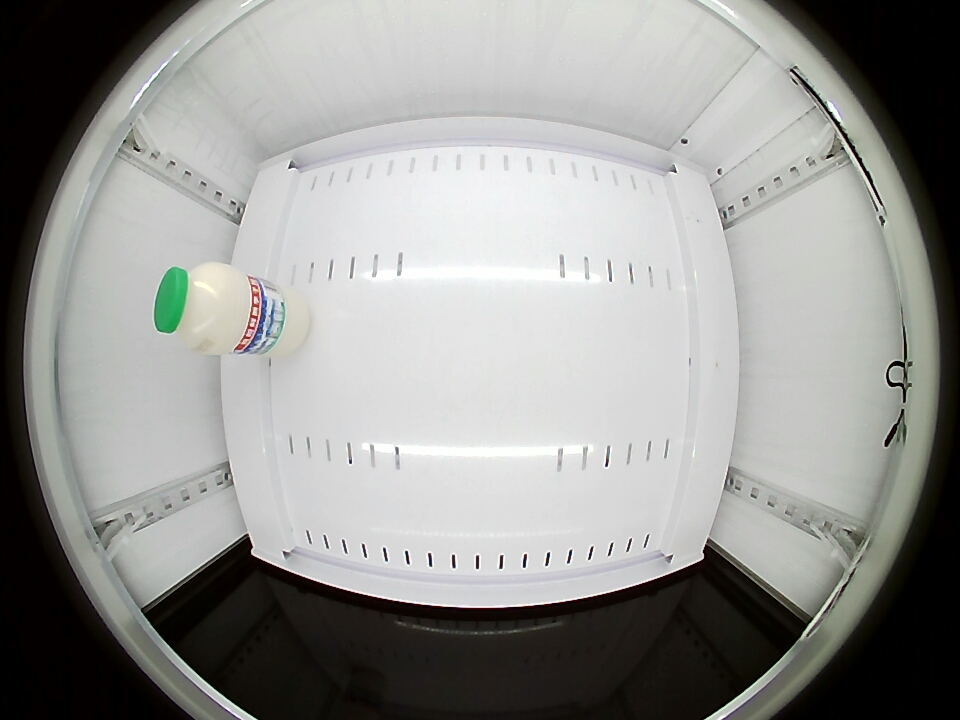liziyuan: (153, 261, 256, 356)
